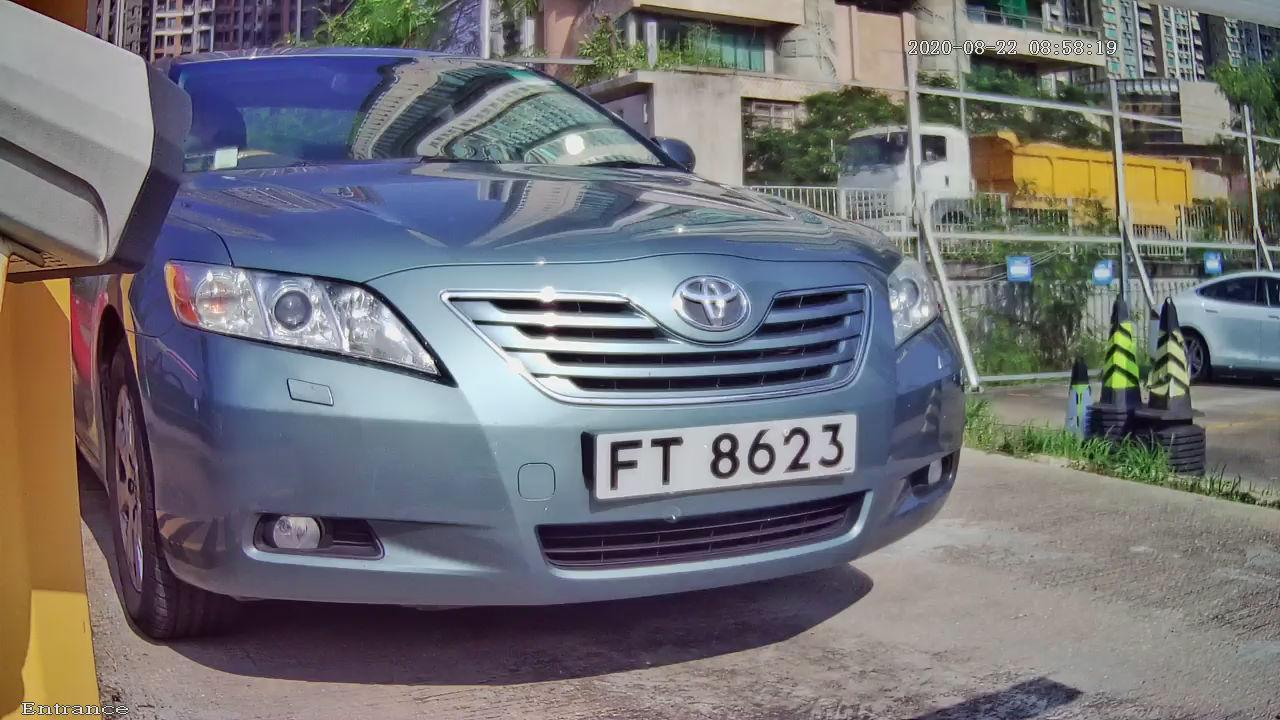License Plate: (566, 399, 863, 512)
